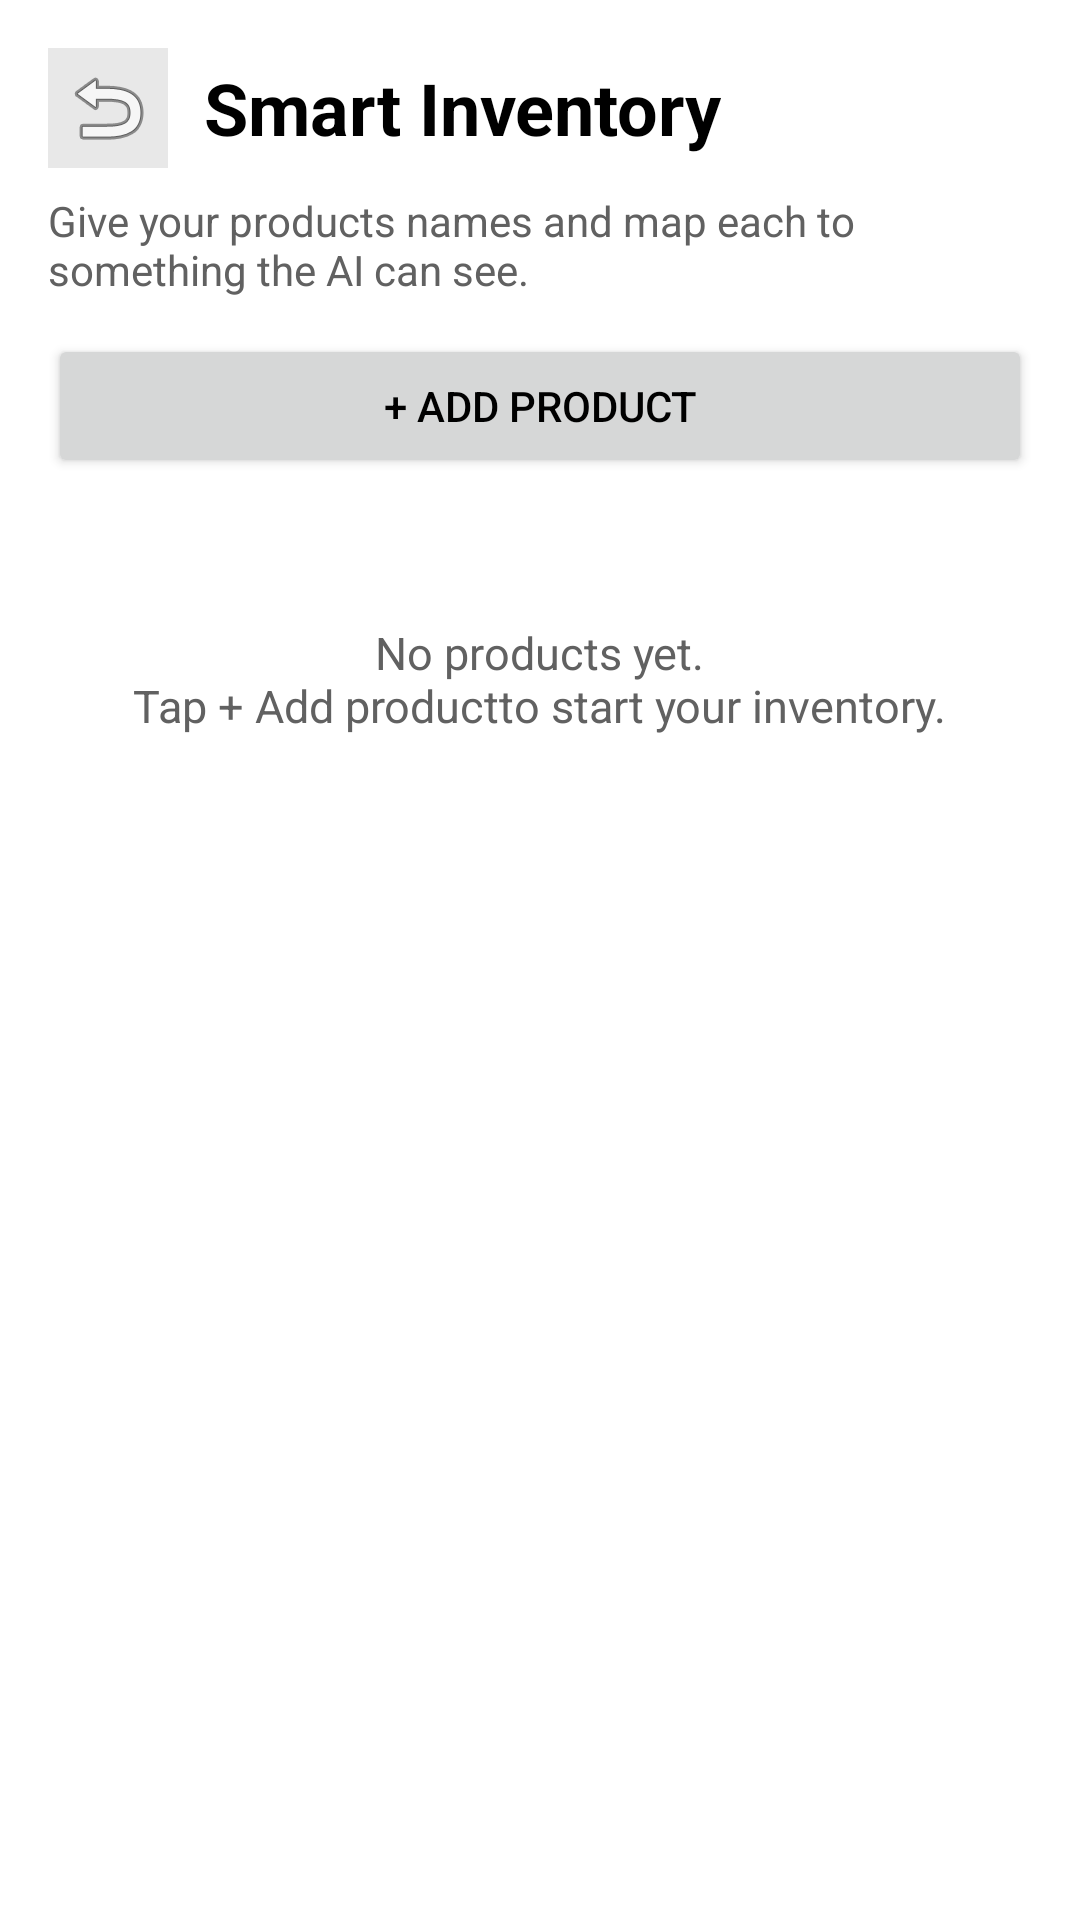

Screen size 1080*1920. Icon name, then its box in pixels as (x1, y1, x2, y2):
Back: (48, 48, 168, 168)
